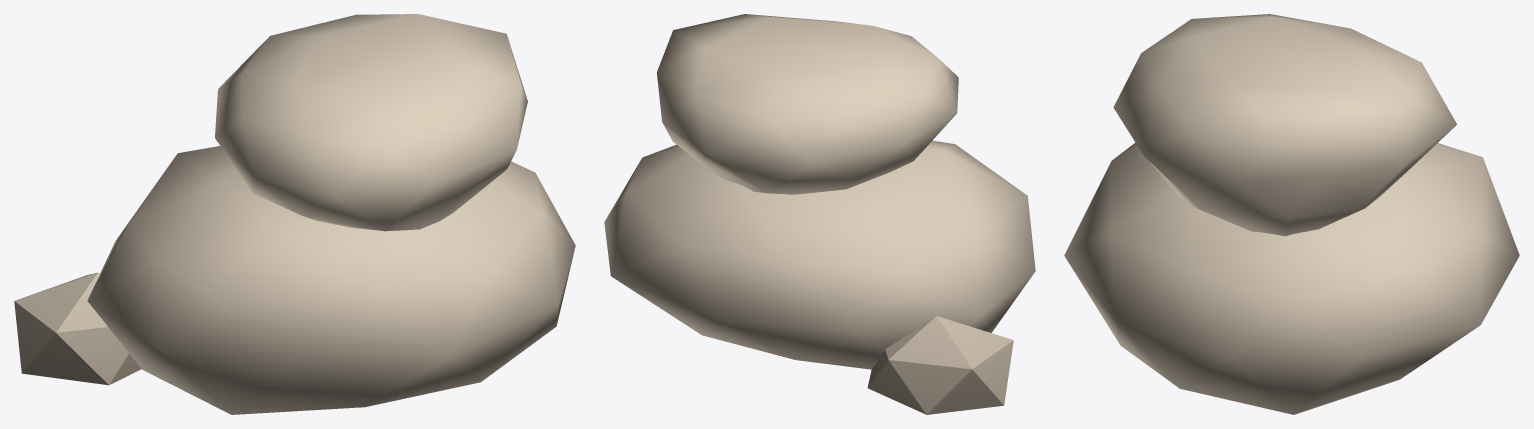
File: SM_ENV_Rock_Warm_Stack.fbx
3 views of the same model, side by side, from view 1: azimuth 30°, elevation 25°; view 2: azimuth 150°, elevation 25°; view 3: azimuth 270°, elevation 25° (orthographic). The views are drawn at different scales.
Visible parts, largest first — view 1: SM_ENV_Rock_Warm_Stack; view 2: SM_ENV_Rock_Warm_Stack; view 3: SM_ENV_Rock_Warm_Stack.
Boxes of the visible parts, box(x1,y1,x2,y2) form: SM_ENV_Rock_Warm_Stack: box(14, 14, 575, 414); SM_ENV_Rock_Warm_Stack: box(604, 14, 1035, 414); SM_ENV_Rock_Warm_Stack: box(1064, 14, 1519, 414).
Bounding box in the file's own units: 1.78 × 1.06 × 1.49.
